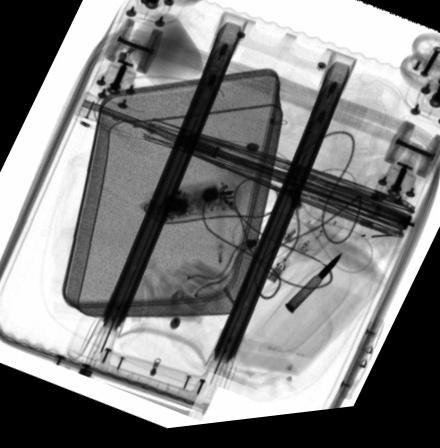Bullet: (284, 262, 342, 321)
